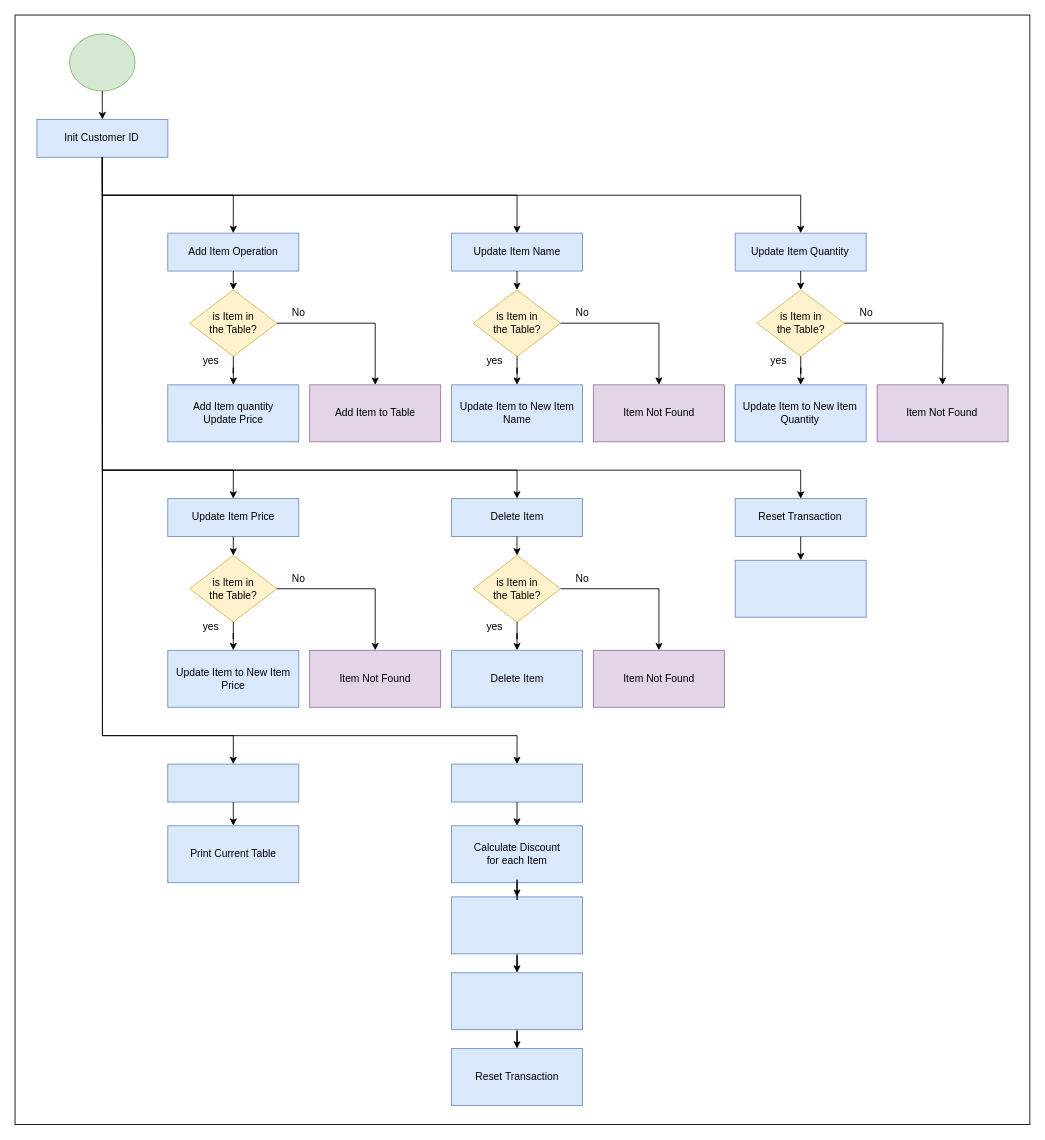
Some shapes in this 1045 by 1140 pixel diagram are drawn without their labels. The centre of each missing label's shape, as x and y in pixels:
"Calculate Total Price After Discount" belongs at pixel 516 925.
"Check Order" belongs at pixel 233 782.
"Check Out" belongs at pixel 516 782.
"Delete All Item in the Table" belongs at pixel 800 588.
"Insert Table to Database" belongs at pixel 516 1001.
"start" belongs at pixel 102 62.
